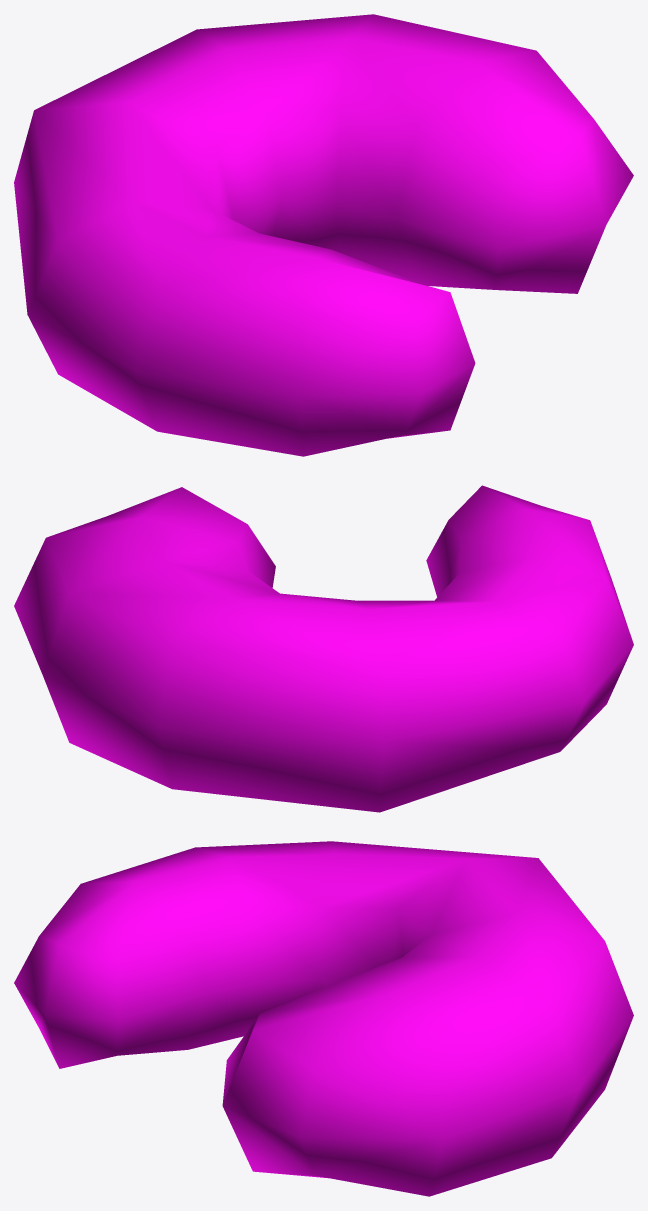
File: shrimp_meshCollider.fbx
3 views of the same model, one above another, from view 1: azimuth 30°, elevation 25°; view 2: azimuth 150°, elevation 25°; view 3: azimuth 270°, elevation 25° (orthographic). The views are drawn at different scales.
Parts seen in each view (by area): view 1: foods_shrimp_meshCollider; view 2: foods_shrimp_meshCollider; view 3: foods_shrimp_meshCollider.
Part boxes in pixels (x1,y1,x2,y2): foods_shrimp_meshCollider: [14, 14, 633, 456]; foods_shrimp_meshCollider: [14, 485, 633, 812]; foods_shrimp_meshCollider: [14, 841, 633, 1196].
Bounding box in the file's own units: 17.96 × 6.32 × 18.17.
